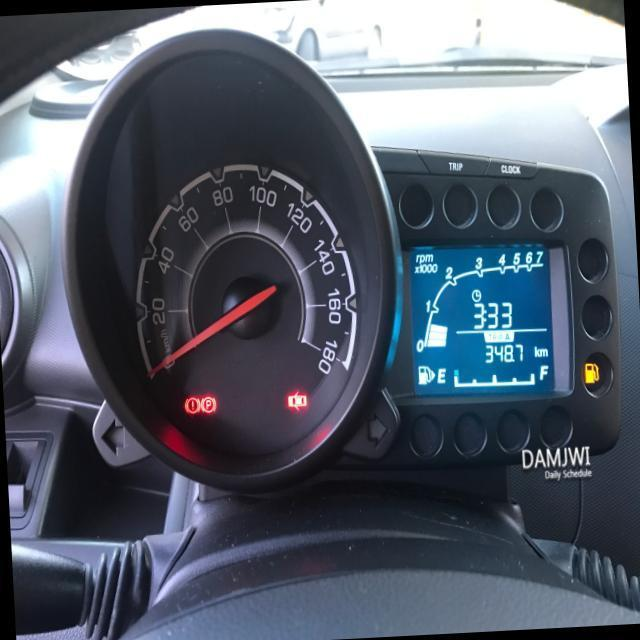Doors: (286, 389, 307, 411)
Low fuel level: (583, 361, 599, 384)
